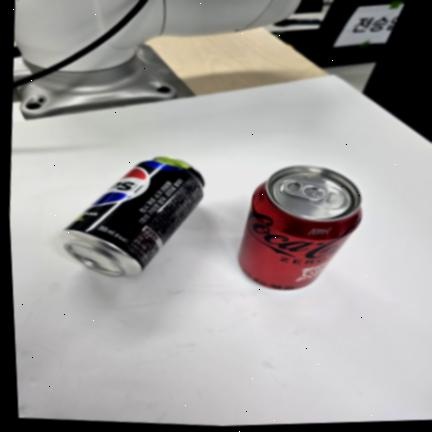can_coke_zero: (238, 165, 361, 290)
can_pepsi_zero: (61, 156, 203, 276)
